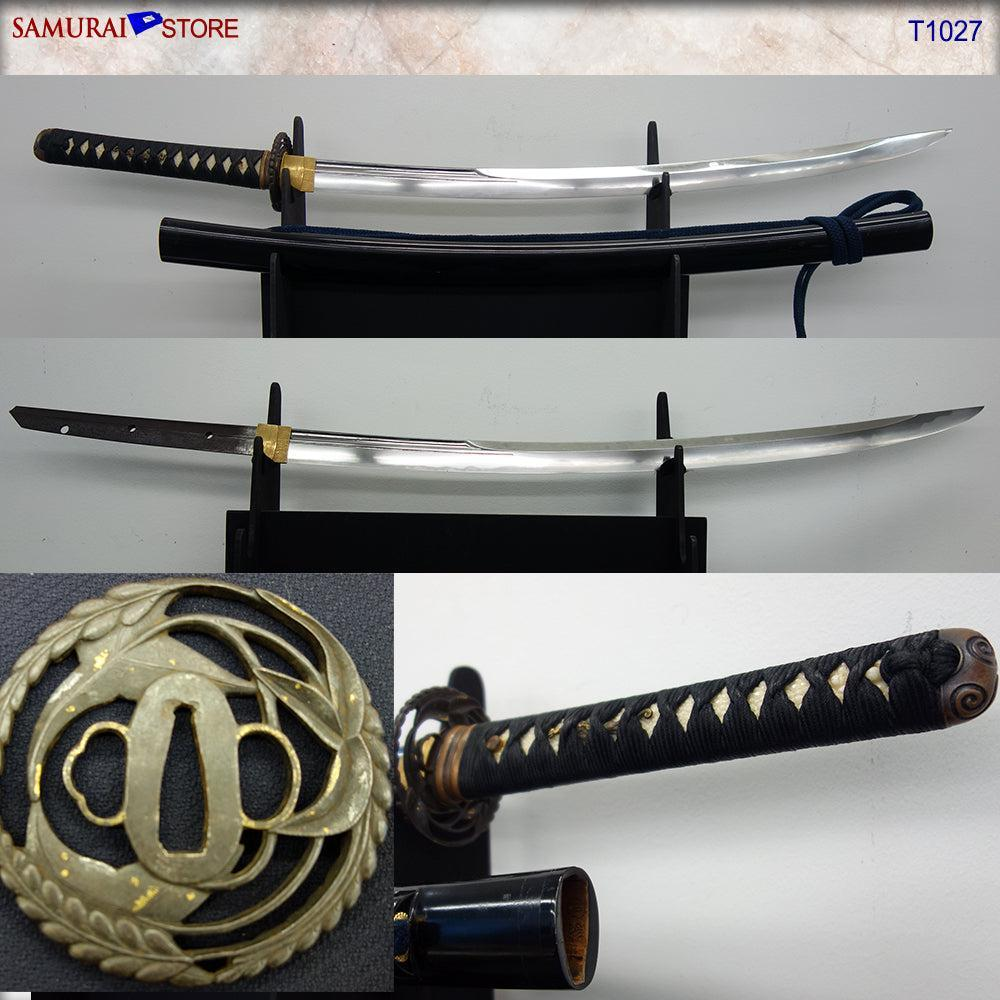espada: (33, 118, 950, 211), (10, 407, 673, 475), (688, 408, 982, 468)
